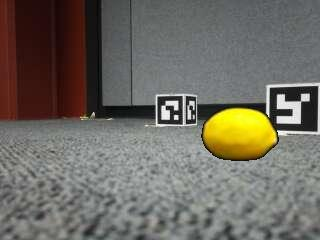lemon: (202, 107, 277, 160)
